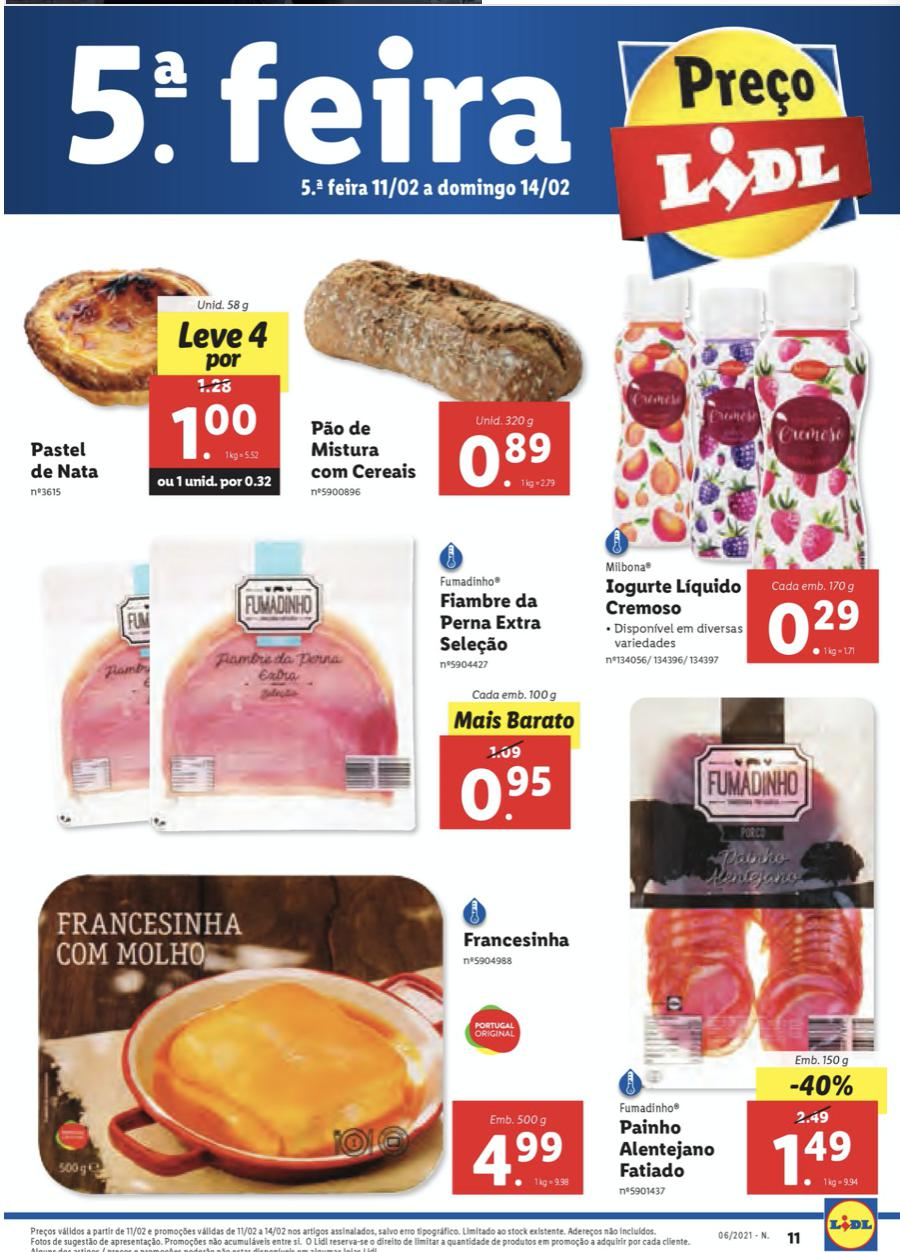name: (307, 412, 420, 486), (434, 587, 550, 656), (614, 1117, 720, 1180), (606, 577, 743, 622), (459, 923, 575, 955), (29, 441, 98, 487)
price: (454, 755, 553, 823), (457, 425, 554, 491), (767, 594, 860, 659), (470, 1127, 568, 1187), (171, 400, 256, 464), (770, 1131, 860, 1187)
product: (25, 856, 598, 1200), (25, 527, 595, 848), (598, 684, 893, 1200), (609, 275, 882, 673), (18, 244, 304, 520), (306, 245, 581, 498)
promotion: (787, 1070, 860, 1100)
